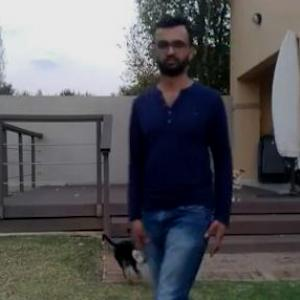follow: (109, 42, 209, 299)
